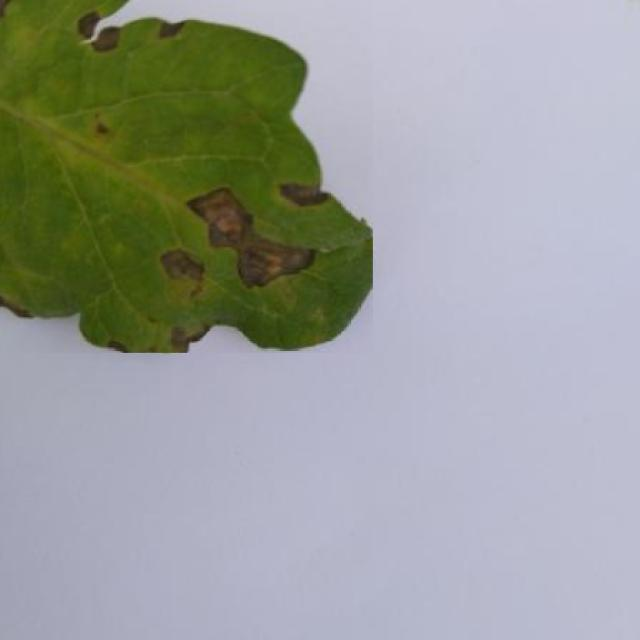Early Blight: (0, 0, 373, 353)
